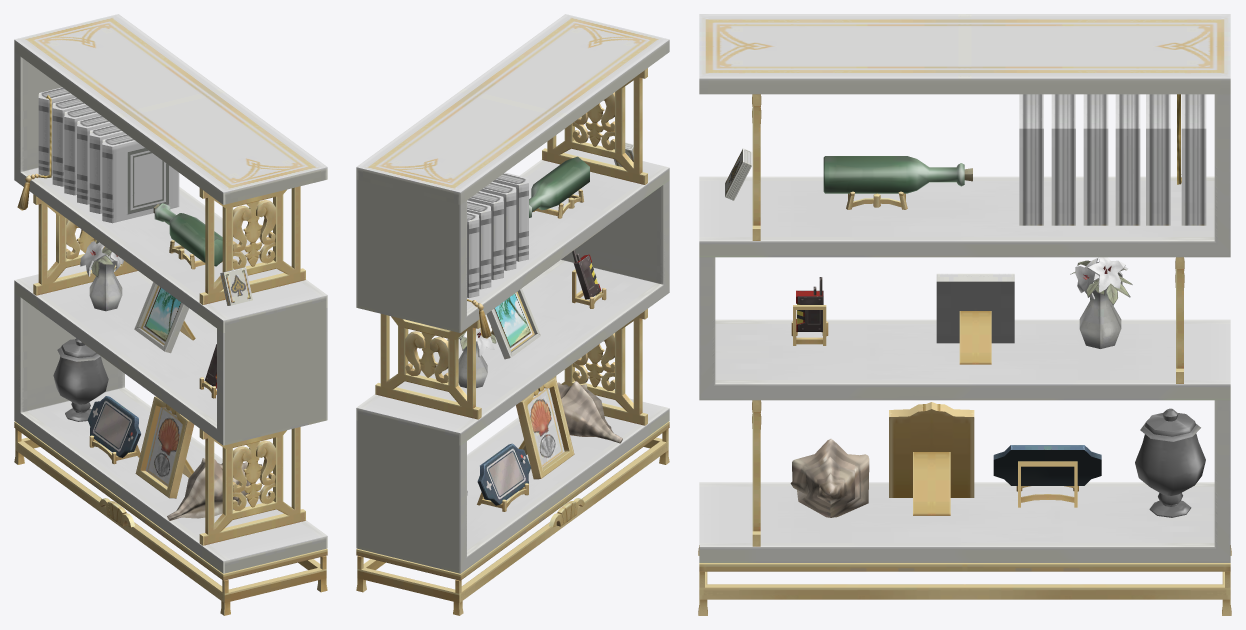
The model's file is my_event082_albumcloset.glb.
3 renders of one model, left to right at view 1: azimuth 30°, elevation 25°; view 2: azimuth 150°, elevation 25°; view 3: azimuth 270°, elevation 25°, orthographic. The views are drawn at different scales.
Visible parts, largest first — view 1: my_event082_albumcloset; view 2: my_event082_albumcloset; view 3: my_event082_albumcloset.
Part boxes in pixels (bbox=[...]): my_event082_albumcloset: bbox=[14, 14, 327, 615]; my_event082_albumcloset: bbox=[356, 14, 669, 615]; my_event082_albumcloset: bbox=[698, 14, 1231, 615].
Size of the model in its own units: 0.00385 by 0.0131 by 0.0118.
Materials: 3 (3 with a texture image).
